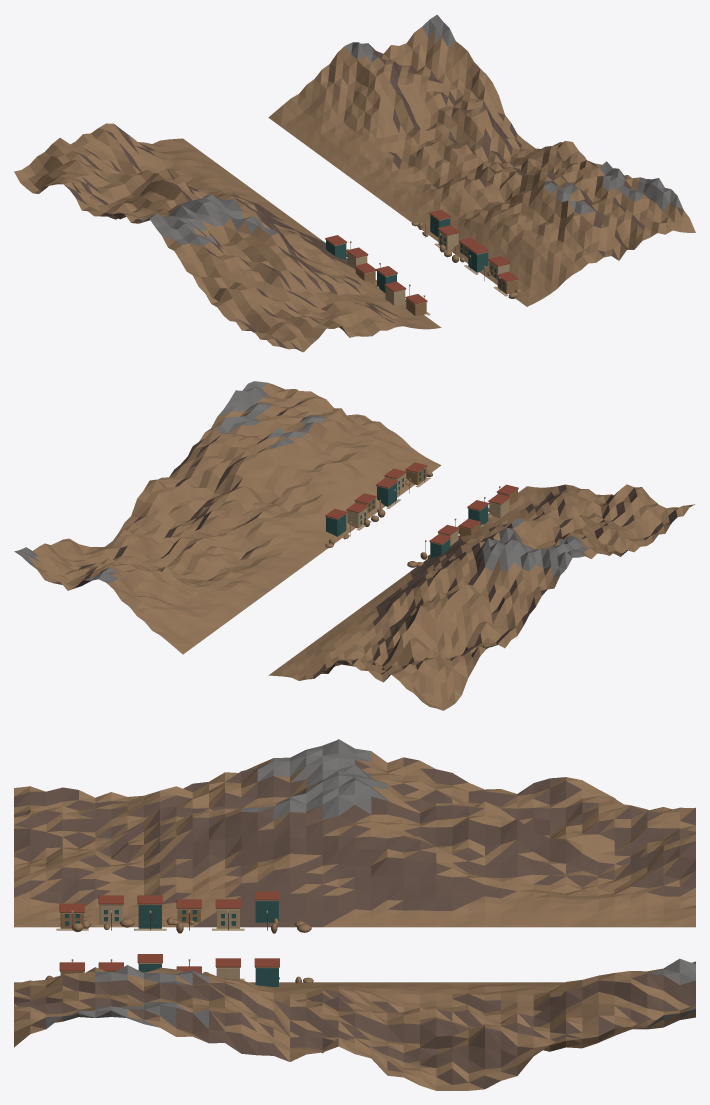
Rendered from region_city_runtime.glb.
3 views of the same model, one above another, from view 1: azimuth 30°, elevation 25°; view 2: azimuth 150°, elevation 25°; view 3: azimuth 270°, elevation 25° (orthographic). The views are drawn at different scales.
Visible parts, largest first — view 1: Cordillera_-1; view 2: Cordillera_-1; view 3: Cordillera_-1.
Boxes of the visible parts, bbox=[...] form: Cordillera_-1: bbox=[14, 14, 695, 352]; Cordillera_-1: bbox=[14, 381, 694, 710]; Cordillera_-1: bbox=[14, 739, 695, 1090].
Bounding box in the file's own units: 99.2 × 14.95 × 105.
